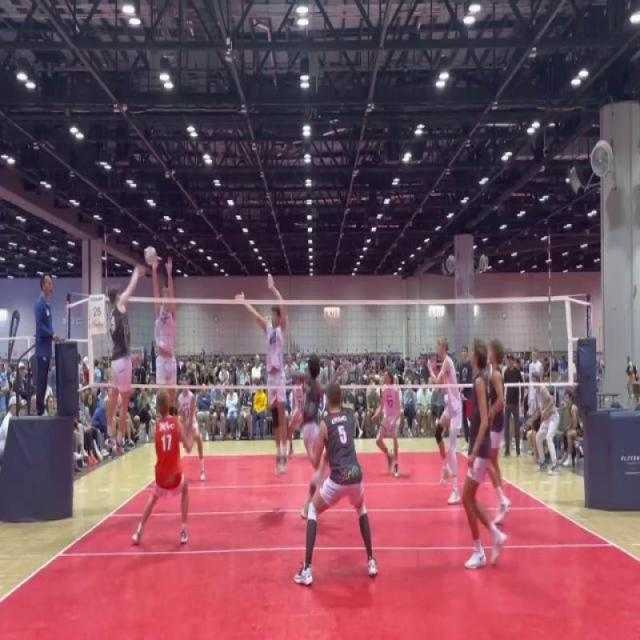volleyball: (142, 242, 158, 268)
